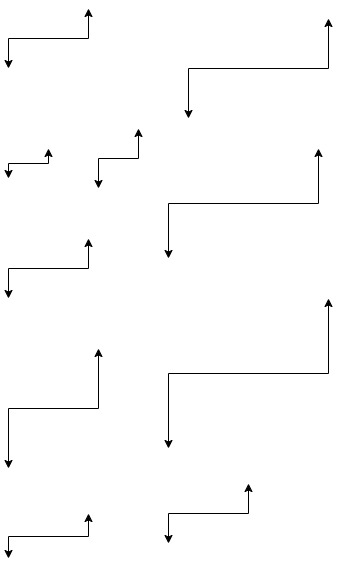bi_horizontal: (163, 295, 334, 448), (160, 145, 327, 263), (183, 17, 334, 120), (4, 346, 108, 468), (163, 480, 256, 548), (3, 8, 95, 70), (4, 239, 96, 301), (3, 509, 95, 559), (94, 127, 143, 191), (5, 146, 53, 182)
